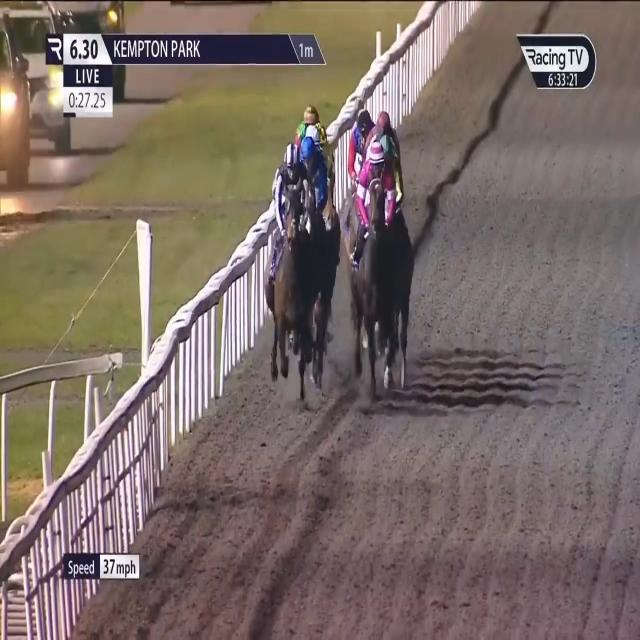horses-racing: (351, 142, 404, 382), (276, 143, 317, 394), (298, 136, 333, 222), (347, 109, 376, 148), (314, 119, 335, 156), (372, 113, 401, 136), (382, 140, 405, 164), (304, 122, 321, 152), (302, 102, 320, 130)
